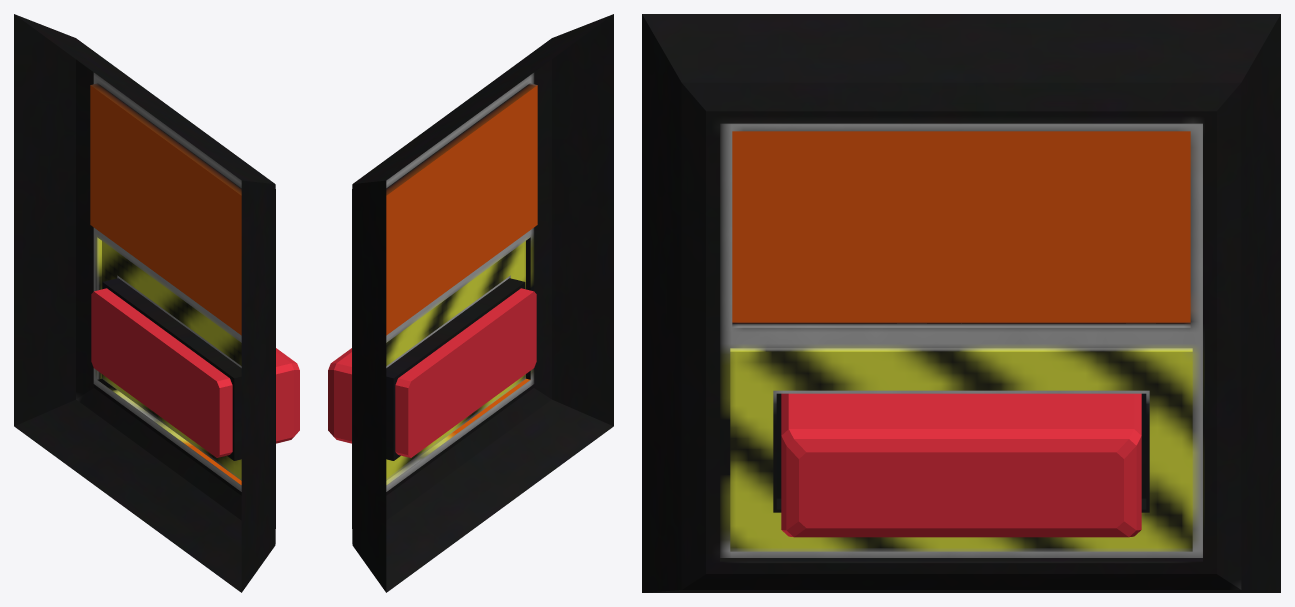
Rendered from decomp_panel.glb.
3 views of the same model, side by side, from view 1: azimuth 30°, elevation 25°; view 2: azimuth 150°, elevation 25°; view 3: azimuth 270°, elevation 25° (orthographic). The views are drawn at different scales.
Parts seen in each view (by area): view 1: Panel, Button; view 2: Panel, Button; view 3: Panel, Button.
Boxes of the visible parts, x1,y1,x2,y2 form: Panel: (14, 14, 275, 592); Button: (91, 288, 299, 457); Panel: (352, 14, 613, 592); Button: (328, 288, 536, 457); Panel: (642, 14, 1280, 592); Button: (781, 393, 1141, 537).
Size of the model in its own units: 0.0859 by 0.3 by 0.3.
3 materials, 1 textured.
